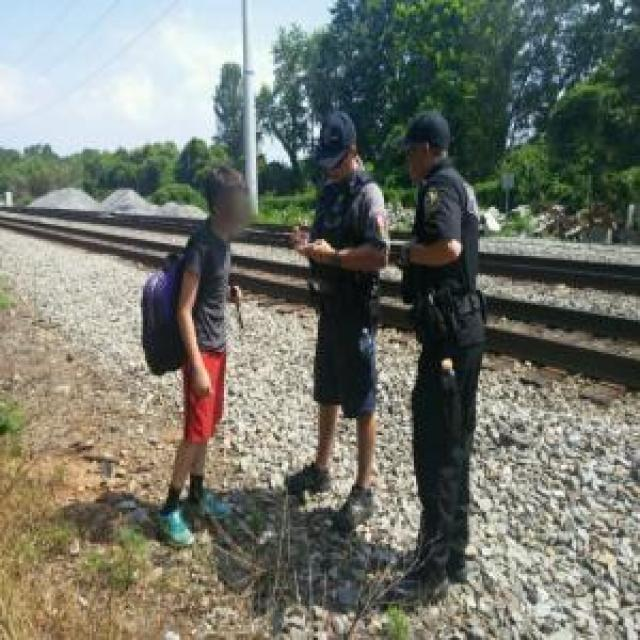danger: (385, 113, 485, 602), (282, 106, 388, 528), (145, 154, 250, 548)
